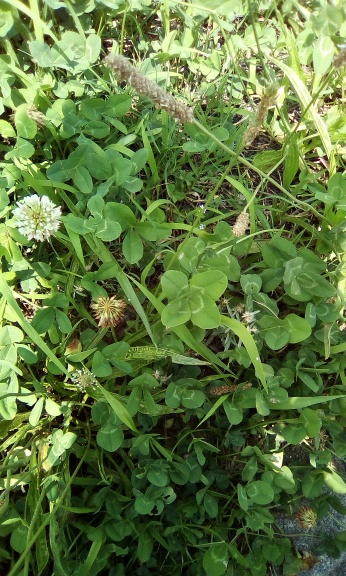4leaf: (159, 269, 228, 330)
